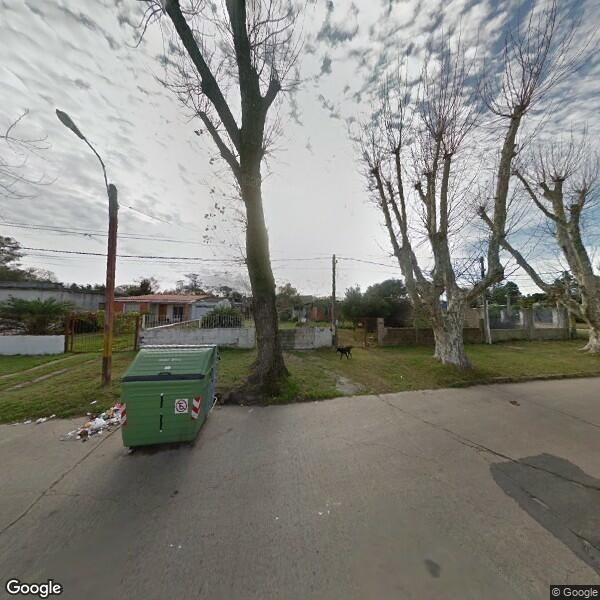Dechets: (61, 406, 122, 443), (24, 414, 56, 423)
Trash: (120, 342, 218, 454)
